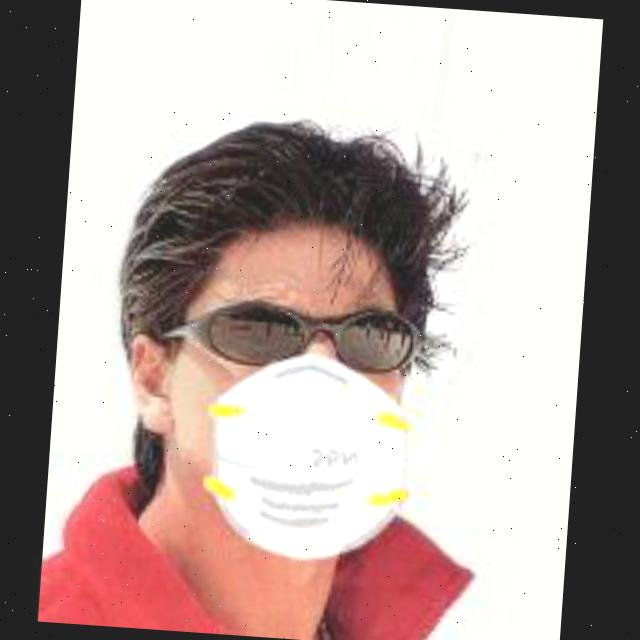suspicion: (105, 148, 452, 570)
